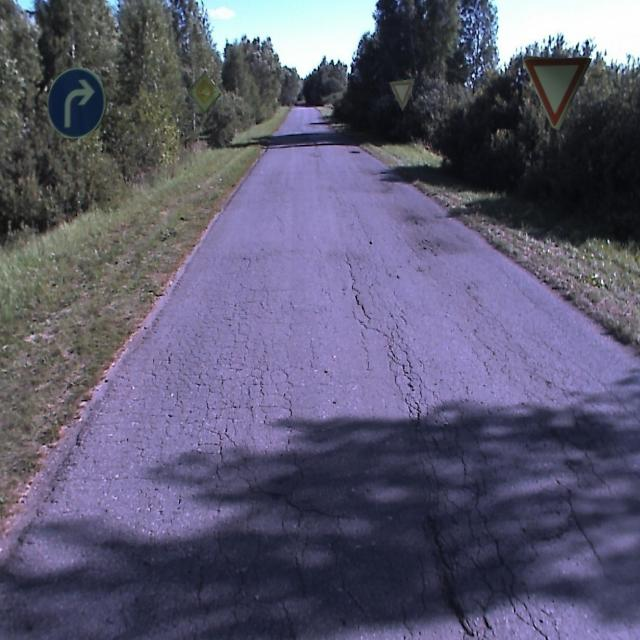road: (0, 107, 639, 639)
